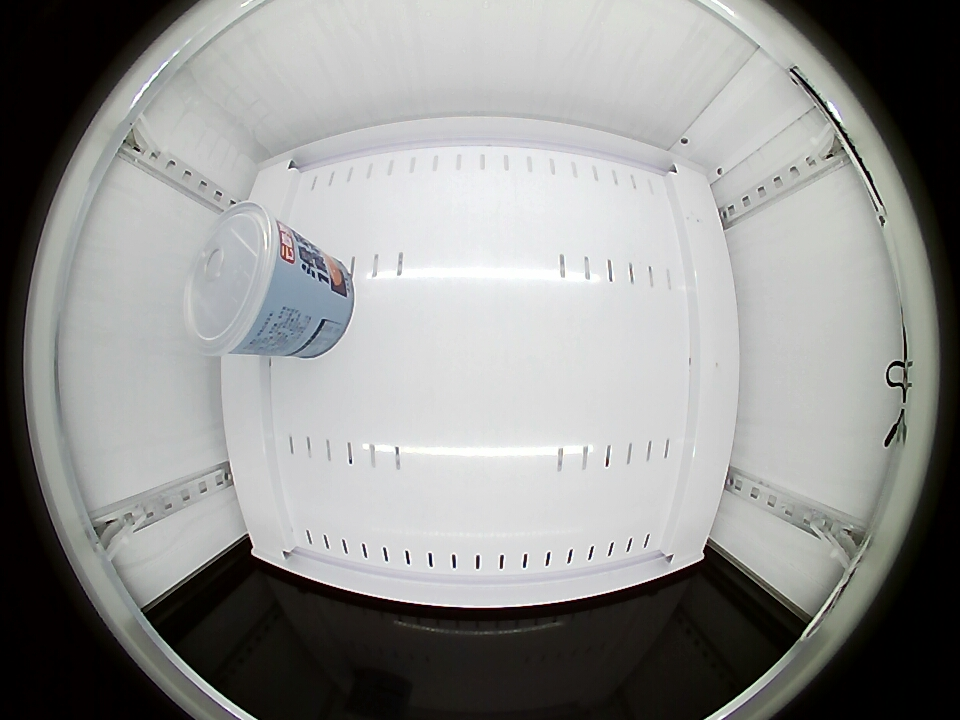haitai: (183, 202, 306, 356)
